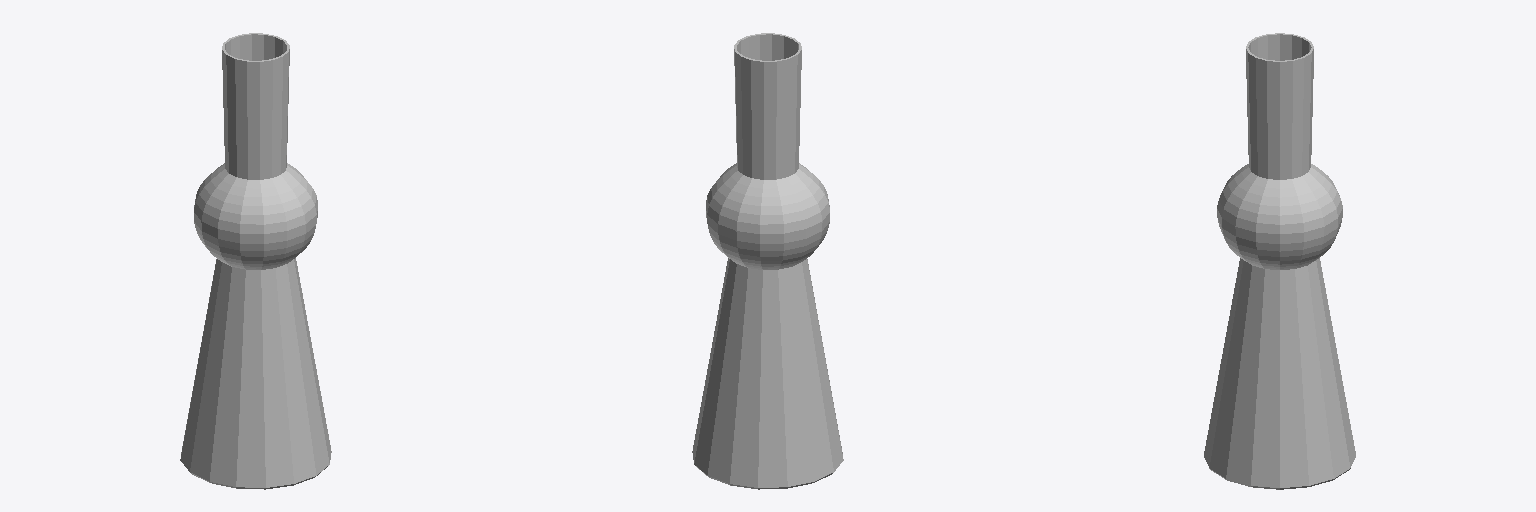
Rendered from flower.obj.
3 views of the same model, side by side, from view 1: azimuth 30°, elevation 25°; view 2: azimuth 150°, elevation 25°; view 3: azimuth 270°, elevation 25° (orthographic).
Parts seen in each view (by area): view 1: fyllig_vase; view 2: fyllig_vase; view 3: fyllig_vase.
Part boxes in pixels (x1,y1,x2,y2): fyllig_vase: (180, 33, 331, 489); fyllig_vase: (692, 33, 843, 489); fyllig_vase: (1204, 33, 1355, 489).
Bounding box in the file's own units: 58.01 × 175 × 58.01.